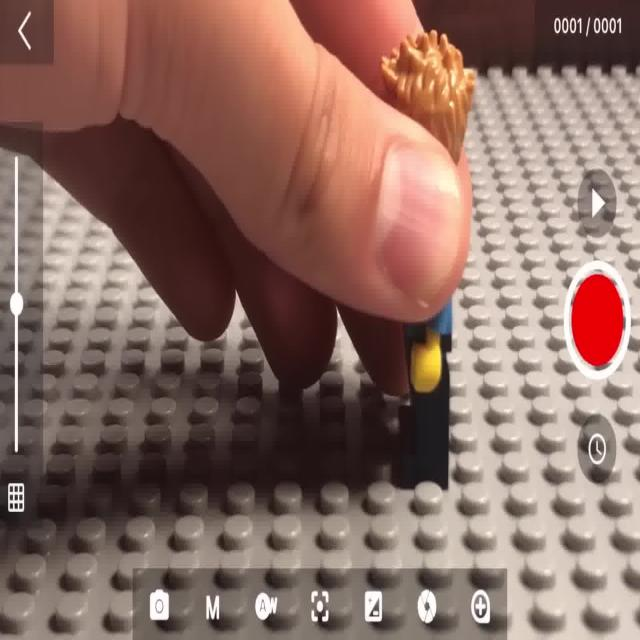4: (404, 324, 446, 401)
hand: (381, 31, 475, 165), (387, 303, 452, 490)
